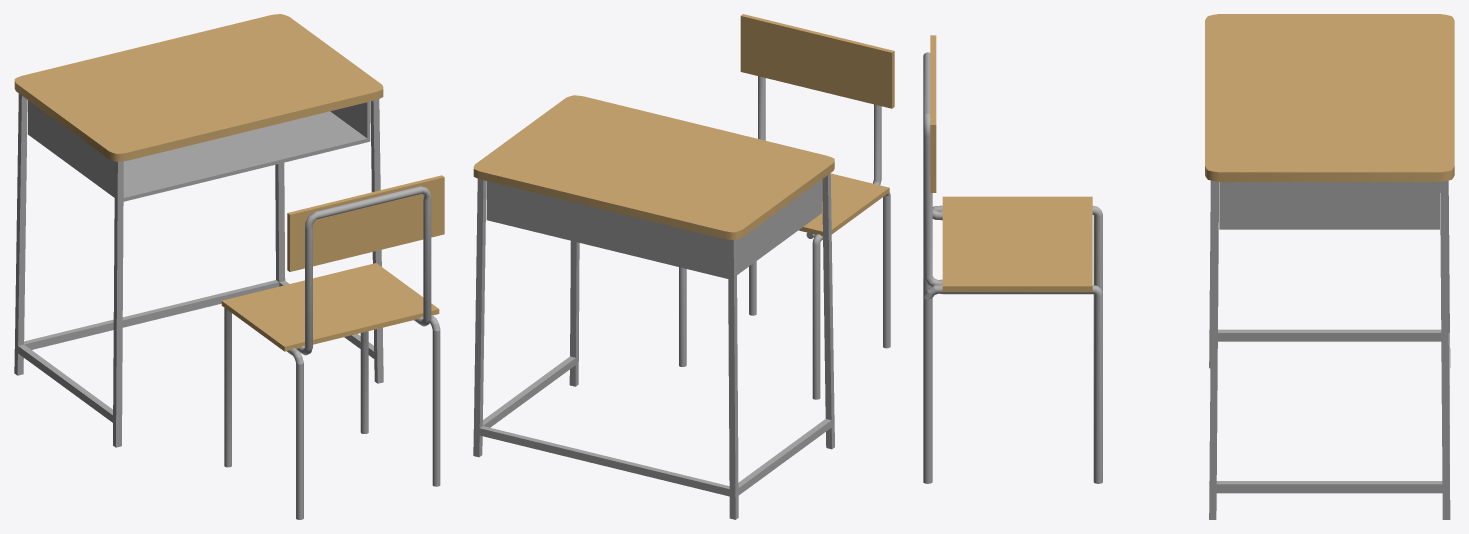
File: desk_and_chair.dae
3 renders of one model, left to right at view 1: azimuth 30°, elevation 25°; view 2: azimuth 150°, elevation 25°; view 3: azimuth 270°, elevation 25°, orthographic. The views are drawn at different scales.
Visible parts, largest first — view 1: Desk, Cube; view 2: Desk, Cube; view 3: Desk, Cube.
Part boxes in pixels (x1,y1,x2,y2): Desk: [14, 14, 383, 447]; Cube: [221, 175, 444, 519]; Desk: [473, 95, 834, 519]; Cube: [679, 14, 894, 399]; Desk: [1205, 14, 1454, 519]; Cube: [923, 35, 1102, 483].
Bounding box in the file's own units: 0.6 × 0.8512 × 0.64.
